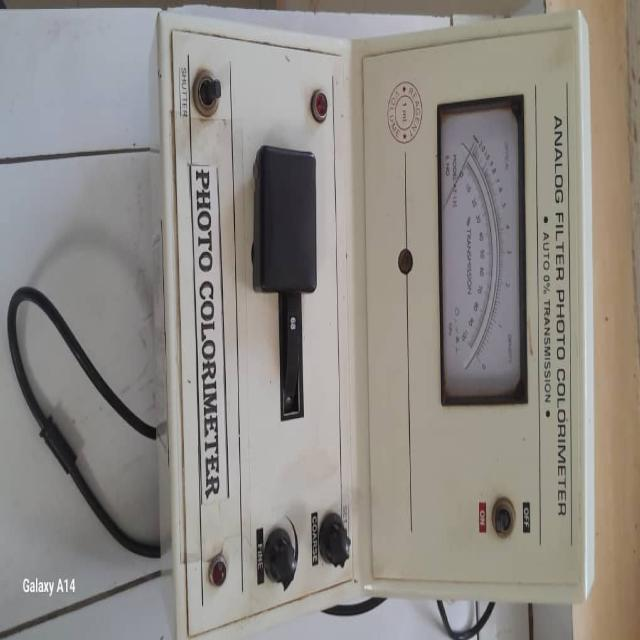Photocolorimeter: (149, 10, 595, 636)
